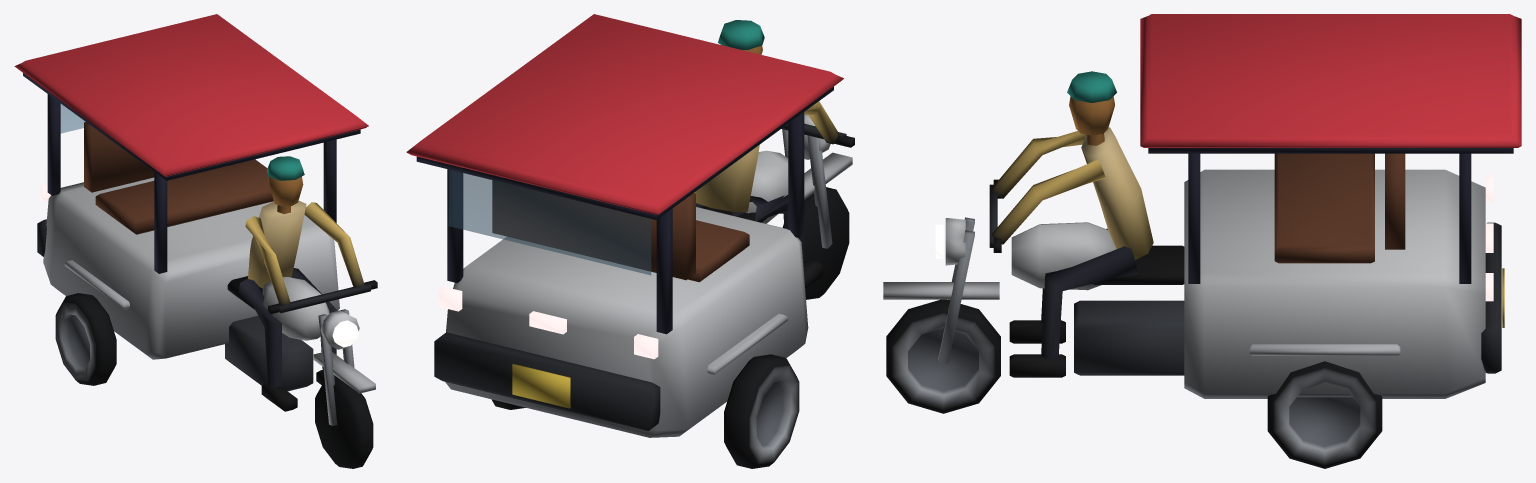
Rendered from mototaxi.glb.
3 renders of one model, left to right at view 1: azimuth 30°, elevation 25°; view 2: azimuth 150°, elevation 25°; view 3: azimuth 270°, elevation 25°, orthographic. The views are drawn at different scales.
Visible parts, largest first — view 1: mototaxi; view 2: mototaxi; view 3: mototaxi.
Boxes of the visible parts, bbox=[...] form: mototaxi: bbox=[14, 14, 377, 468]; mototaxi: bbox=[406, 14, 854, 468]; mototaxi: bbox=[883, 14, 1521, 468].
Bounding box in the file's own units: 1.62 × 1.86 × 3.18.
